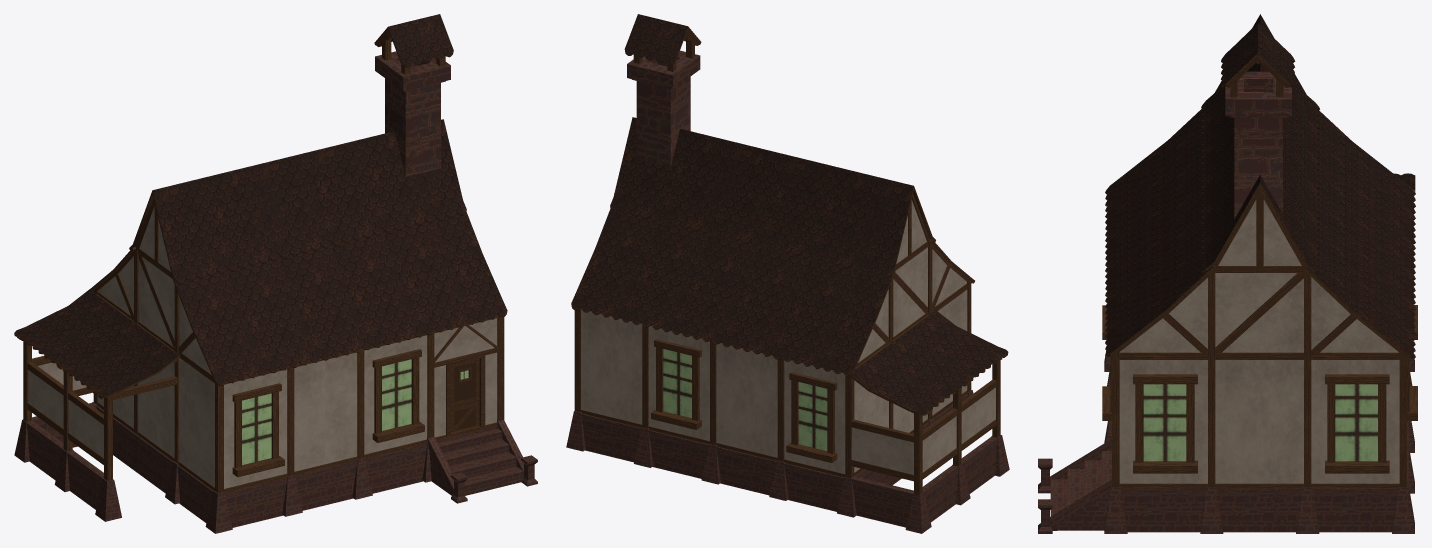
The model's file is small_house_db4bb7a9.fbx.
The picture shows the model from 3 angles, left to right: view 1: azimuth 30°, elevation 25°; view 2: azimuth 150°, elevation 25°; view 3: azimuth 270°, elevation 25°; orthographic projection. The views are drawn at different scales.
Parts seen in each view (by area): view 1: small_house_db4bb7a9; view 2: small_house_db4bb7a9; view 3: small_house_db4bb7a9.
Part boxes in pixels (x1,y1,x2,y2): small_house_db4bb7a9: (14, 14, 537, 533); small_house_db4bb7a9: (566, 14, 1009, 533); small_house_db4bb7a9: (1038, 14, 1417, 533).
Bounding box in the file's own units: 10.63 × 11.01 × 7.92.
10 materials, 10 textured.
